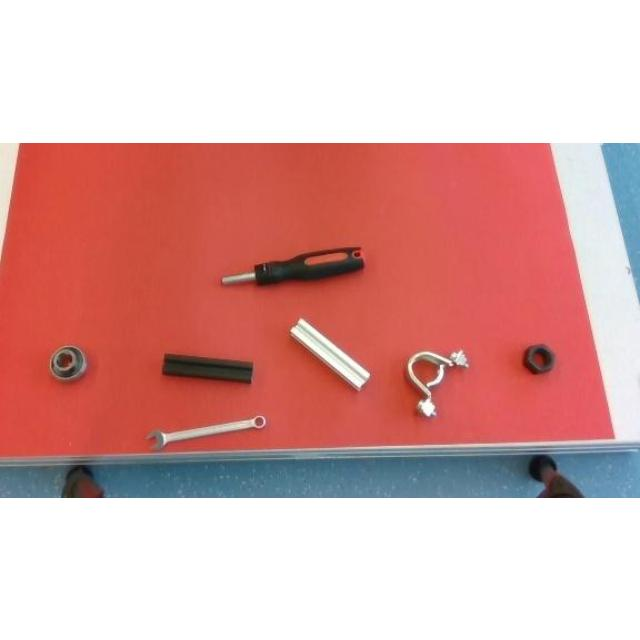Bearing2: (49, 346, 86, 380)
F20_20_B: (162, 352, 252, 381)
F20_20_G: (288, 318, 369, 390)
Housing: (405, 348, 469, 417)
M20: (522, 343, 556, 373)
